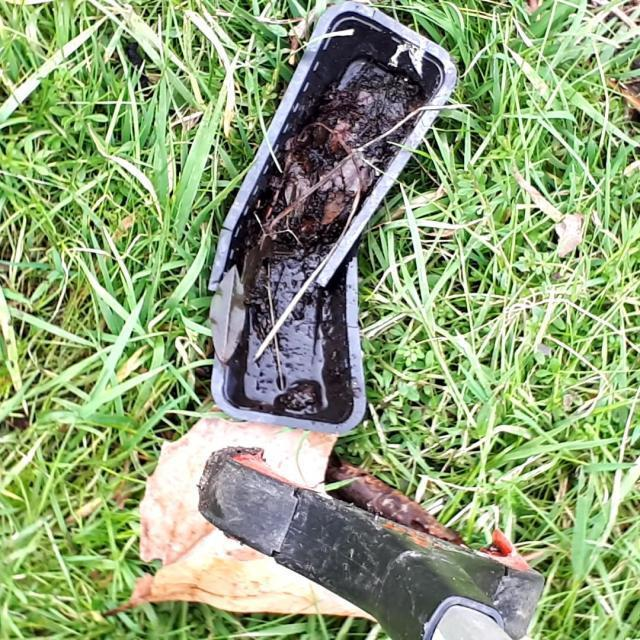Plastic: (202, 1, 459, 440)
